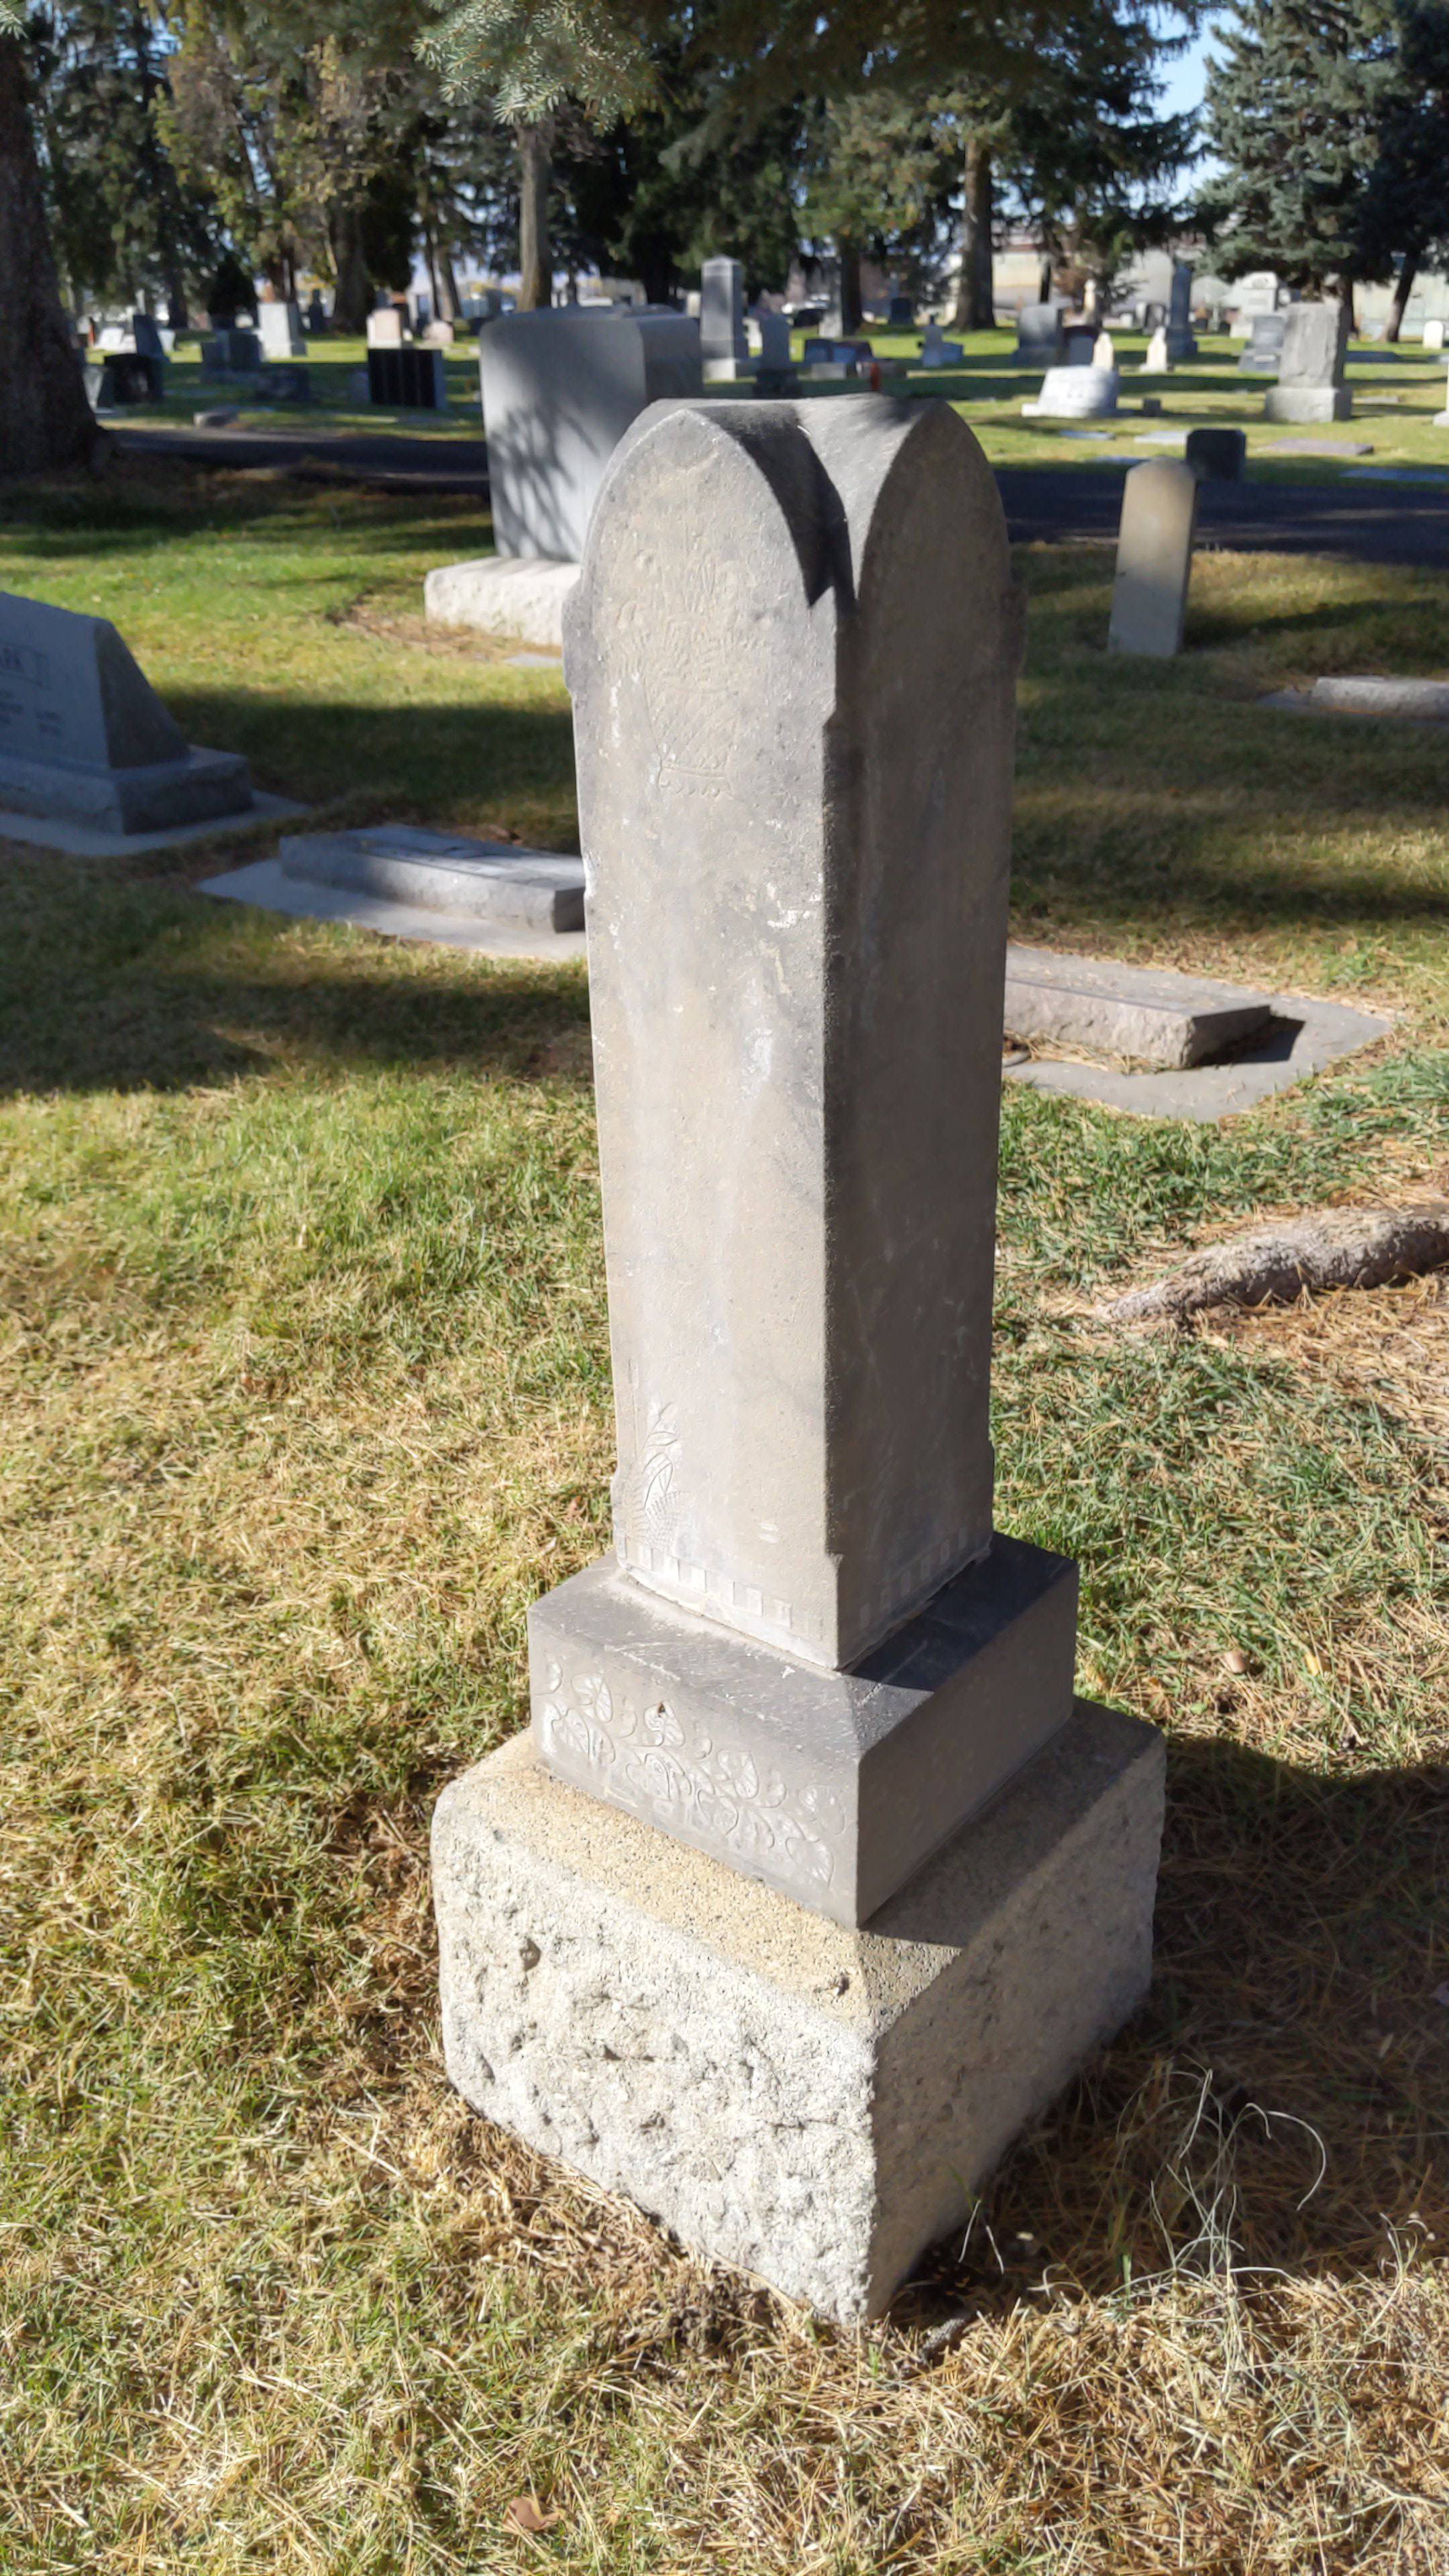obelisk: (541, 410, 1069, 1907)
